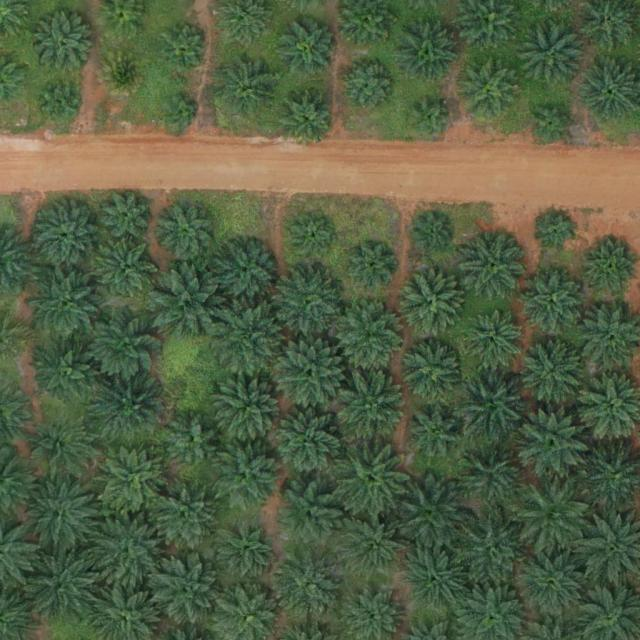Healthy: (28, 263, 106, 342), (87, 307, 165, 386), (148, 265, 226, 344), (212, 302, 290, 381), (271, 405, 349, 484), (334, 369, 412, 448), (333, 441, 411, 520), (393, 476, 471, 555), (453, 363, 531, 442), (453, 437, 531, 516), (453, 510, 531, 589), (516, 406, 594, 485), (514, 480, 592, 559), (514, 544, 592, 623), (215, 376, 286, 447), (214, 441, 285, 512), (33, 339, 103, 410), (95, 372, 165, 443), (94, 515, 164, 586), (149, 481, 219, 552), (275, 337, 345, 408), (273, 482, 343, 553), (335, 302, 406, 372), (341, 511, 411, 582), (273, 554, 343, 625), (24, 552, 95, 622), (25, 412, 95, 482), (27, 482, 97, 552), (98, 447, 168, 517), (210, 515, 280, 585), (272, 265, 342, 335), (151, 554, 221, 624), (459, 59, 522, 122), (397, 23, 460, 86), (217, 55, 280, 118), (400, 343, 463, 406), (521, 21, 583, 84), (34, 203, 96, 266), (95, 238, 158, 300), (214, 242, 277, 304), (401, 271, 463, 334), (405, 402, 467, 465), (465, 234, 527, 297), (461, 309, 523, 372), (522, 269, 584, 332), (522, 339, 584, 402), (404, 547, 467, 609), (276, 87, 338, 149), (34, 13, 96, 75), (342, 59, 397, 114), (282, 22, 337, 77), (99, 189, 154, 244), (167, 414, 222, 469), (158, 205, 212, 260), (161, 24, 208, 72)
Small: (290, 215, 337, 263), (408, 96, 455, 144), (37, 80, 84, 128), (351, 243, 398, 290), (531, 101, 578, 148), (413, 214, 453, 254), (162, 95, 201, 134), (539, 213, 578, 252)
Yellow: (101, 50, 148, 97)
